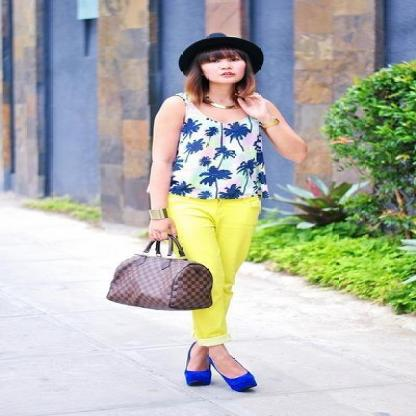bag: (106, 252, 211, 310)
hat: (179, 33, 262, 74)
pants: (169, 193, 261, 347)
shirt: (169, 93, 274, 199)
shoe: (185, 365, 256, 392)
